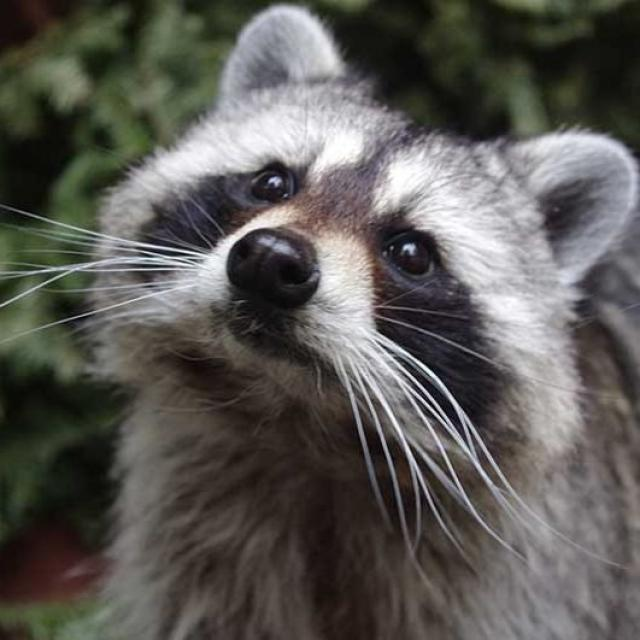Raccoon: (87, 0, 629, 640)
